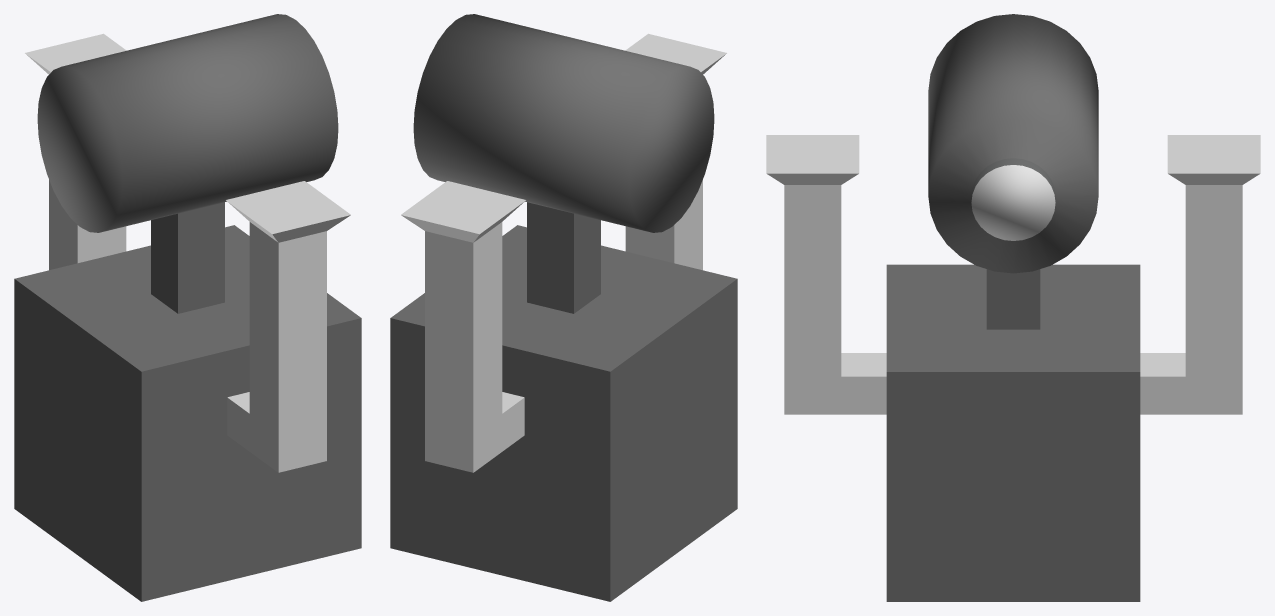
Rendered from robot.fbx.
The picture shows the model from 3 angles, left to right: view 1: azimuth 30°, elevation 25°; view 2: azimuth 150°, elevation 25°; view 3: azimuth 270°, elevation 25°; orthographic projection.
Parts seen in each view (by area): view 1: Cube, Cylinder, Cube.002, Cube.001, Cube.003; view 2: Cube, Cylinder, Cube.003, Cube.001, Cube.002; view 3: Cube, Cylinder, Cube.002, Cube.003, Cube.001.
Boxes of the visible parts, x1,y1,x2,y2 form: Cube: (14, 225, 361, 601); Cylinder: (37, 14, 338, 232); Cube.002: (226, 181, 350, 472); Cube.001: (151, 202, 224, 313); Cube.003: (25, 33, 126, 270); Cube: (390, 225, 737, 601); Cylinder: (413, 14, 714, 232); Cube.003: (401, 181, 525, 472); Cube.001: (527, 202, 600, 313); Cube.002: (625, 33, 726, 270); Cube: (886, 264, 1140, 601); Cylinder: (928, 14, 1098, 273); Cube.002: (766, 135, 886, 414); Cube.003: (1140, 135, 1260, 414); Cube.001: (986, 269, 1040, 329).
Bounding box in the file's own units: 210 × 419 × 390.
